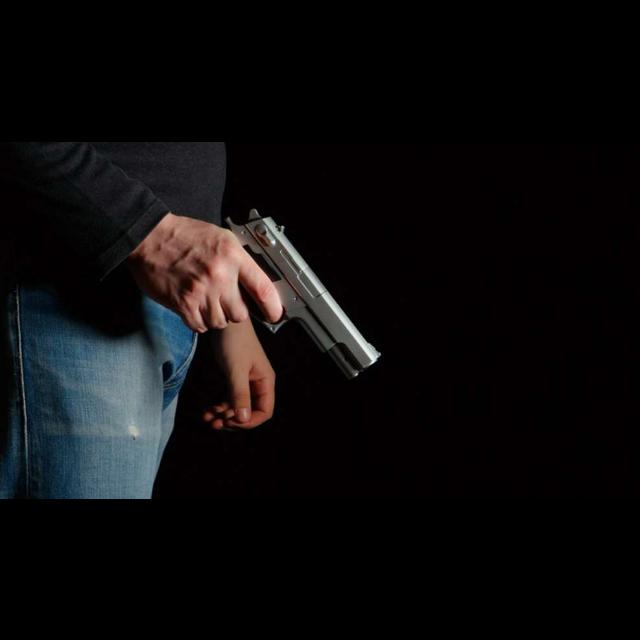handgun: (228, 201, 386, 381)
